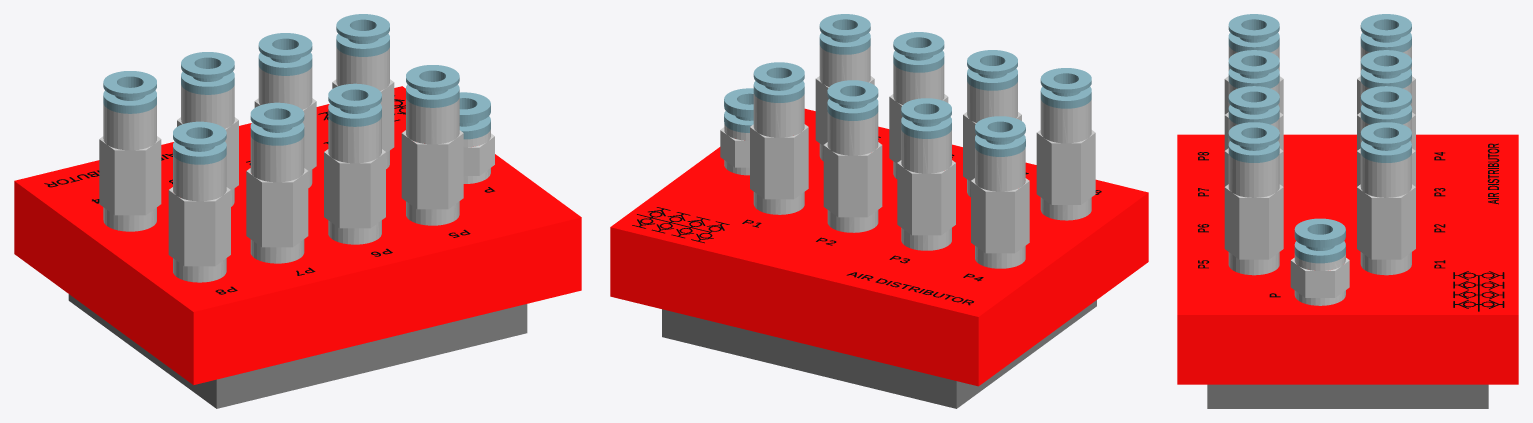
File: air-distributor.glb
The picture shows the model from 3 angles, left to right: view 1: azimuth 30°, elevation 25°; view 2: azimuth 150°, elevation 25°; view 3: azimuth 270°, elevation 25°; orthographic projection. The views are drawn at different scales.
Visible parts, largest first — view 1: BASE__go885__mesh0, BASE__go885__mesh4, BASE__go885__mesh5, BASE__go885__mesh1, BASE__go885__mesh2, BASE__go885__mesh3, Sticker__go1105__mesh0; view 2: BASE__go885__mesh0, BASE__go885__mesh4, BASE__go885__mesh5, BASE__go885__mesh1, Sticker__go1105__mesh0, BASE__go885__mesh2, BASE__go885__mesh3; view 3: BASE__go885__mesh0, BASE__go885__mesh4, BASE__go885__mesh5, BASE__go885__mesh1, BASE__go885__mesh2, BASE__go885__mesh3, Sticker__go1105__mesh0.
Part boxes in pixels (left/top/right/bottom): BASE__go885__mesh0: left=14, top=86, right=581, bottom=385; BASE__go885__mesh4: left=99, top=47, right=463, bottom=282; BASE__go885__mesh5: left=103, top=14, right=459, bottom=164; BASE__go885__mesh1: left=68, top=294, right=527, bottom=408; BASE__go885__mesh2: left=463, top=129, right=494, bottom=183; BASE__go885__mesh3: left=459, top=92, right=490, bottom=139; Sticker__go1105__mesh0: left=44, top=95, right=494, bottom=294; BASE__go885__mesh0: left=610, top=108, right=1148, bottom=386; BASE__go885__mesh4: left=750, top=45, right=1095, bottom=268; BASE__go885__mesh5: left=753, top=14, right=1091, bottom=156; BASE__go885__mesh1: left=662, top=300, right=1096, bottom=408; Sticker__go1105__mesh0: left=632, top=136, right=1101, bottom=305; BASE__go885__mesh2: left=720, top=124, right=749, bottom=175; BASE__go885__mesh3: left=724, top=88, right=753, bottom=132; BASE__go885__mesh0: left=1177, top=134, right=1518, bottom=384; BASE__go885__mesh4: left=1224, top=44, right=1415, bottom=275; BASE__go885__mesh5: left=1228, top=14, right=1411, bottom=162; BASE__go885__mesh1: left=1207, top=384, right=1488, bottom=408; BASE__go885__mesh2: left=1290, top=253, right=1349, bottom=305; BASE__go885__mesh3: left=1294, top=218, right=1345, bottom=263; Sticker__go1105__mesh0: left=1197, top=143, right=1504, bottom=311.
Bounding box in the file's own units: 0.1 × 0.063 × 0.08.
Materials: 6 (1 with a texture image).
